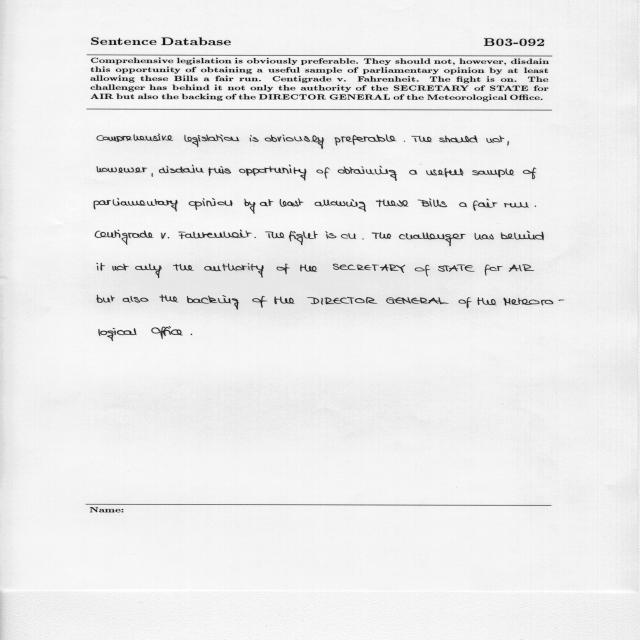word: (94, 198, 178, 211), (239, 165, 307, 180), (399, 233, 466, 247), (204, 263, 264, 278), (265, 134, 324, 149), (338, 166, 397, 181), (95, 230, 154, 245), (187, 295, 239, 310), (185, 134, 240, 147), (335, 135, 396, 146), (178, 230, 252, 239), (315, 199, 366, 212), (333, 264, 405, 273), (97, 134, 173, 142), (307, 297, 377, 305), (189, 198, 232, 210), (504, 298, 565, 306), (99, 328, 136, 341), (386, 298, 449, 305), (289, 231, 318, 245), (501, 231, 544, 240), (151, 327, 183, 339), (472, 169, 514, 178), (135, 264, 162, 278), (159, 165, 204, 173), (97, 166, 147, 173), (427, 168, 464, 177), (439, 135, 478, 143), (438, 264, 475, 272), (473, 199, 497, 211), (418, 198, 447, 207), (376, 200, 409, 207), (208, 166, 231, 176), (280, 198, 304, 207), (509, 264, 535, 272), (485, 265, 503, 276), (123, 296, 149, 303), (244, 199, 256, 214), (253, 296, 268, 308), (316, 167, 330, 179), (274, 297, 295, 305), (415, 265, 430, 276), (477, 297, 497, 305), (504, 202, 529, 208), (173, 264, 194, 271), (487, 135, 505, 143), (97, 295, 115, 303), (523, 168, 536, 179), (277, 264, 290, 275), (459, 297, 472, 308), (265, 232, 285, 239), (474, 233, 494, 240), (300, 264, 317, 272), (372, 232, 391, 239), (160, 295, 179, 302), (411, 136, 432, 142), (112, 264, 129, 271), (260, 199, 274, 206), (341, 234, 356, 240), (326, 231, 337, 239), (97, 263, 105, 271), (250, 135, 259, 142), (161, 233, 169, 239), (409, 170, 418, 175), (460, 202, 468, 207), (507, 141, 509, 146), (151, 173, 153, 177), (254, 237, 256, 238), (362, 239, 364, 240), (404, 141, 405, 142), (535, 206, 536, 207), (191, 334, 192, 335)
